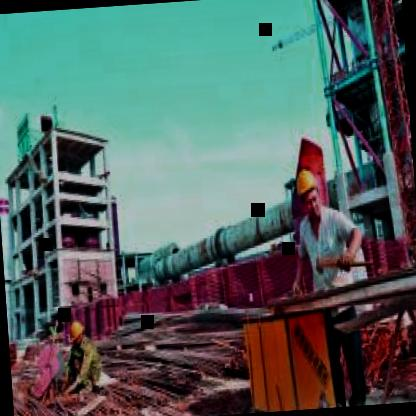helmet: (294, 164, 324, 219), (68, 318, 86, 349)
